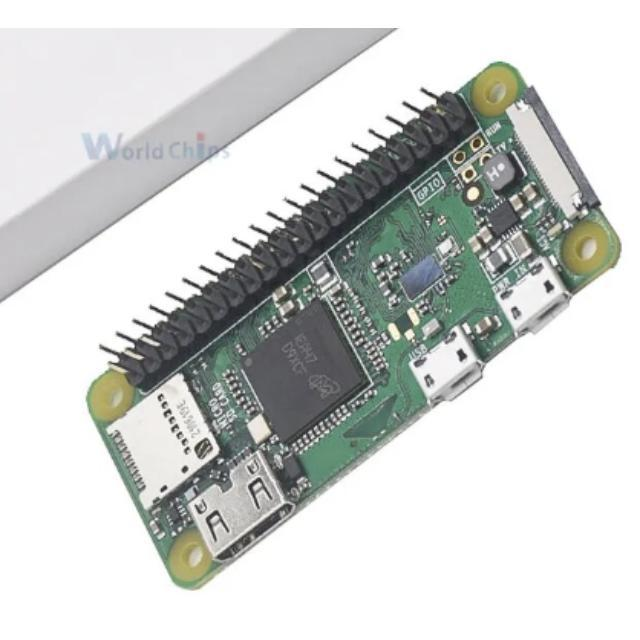Raspberry-Pi-Zero-WH: (88, 63, 620, 588)
